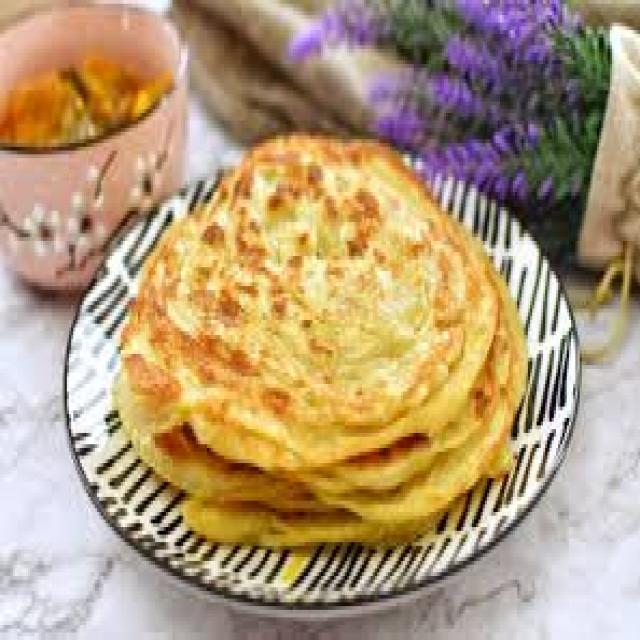Paratha: (126, 145, 546, 526)
